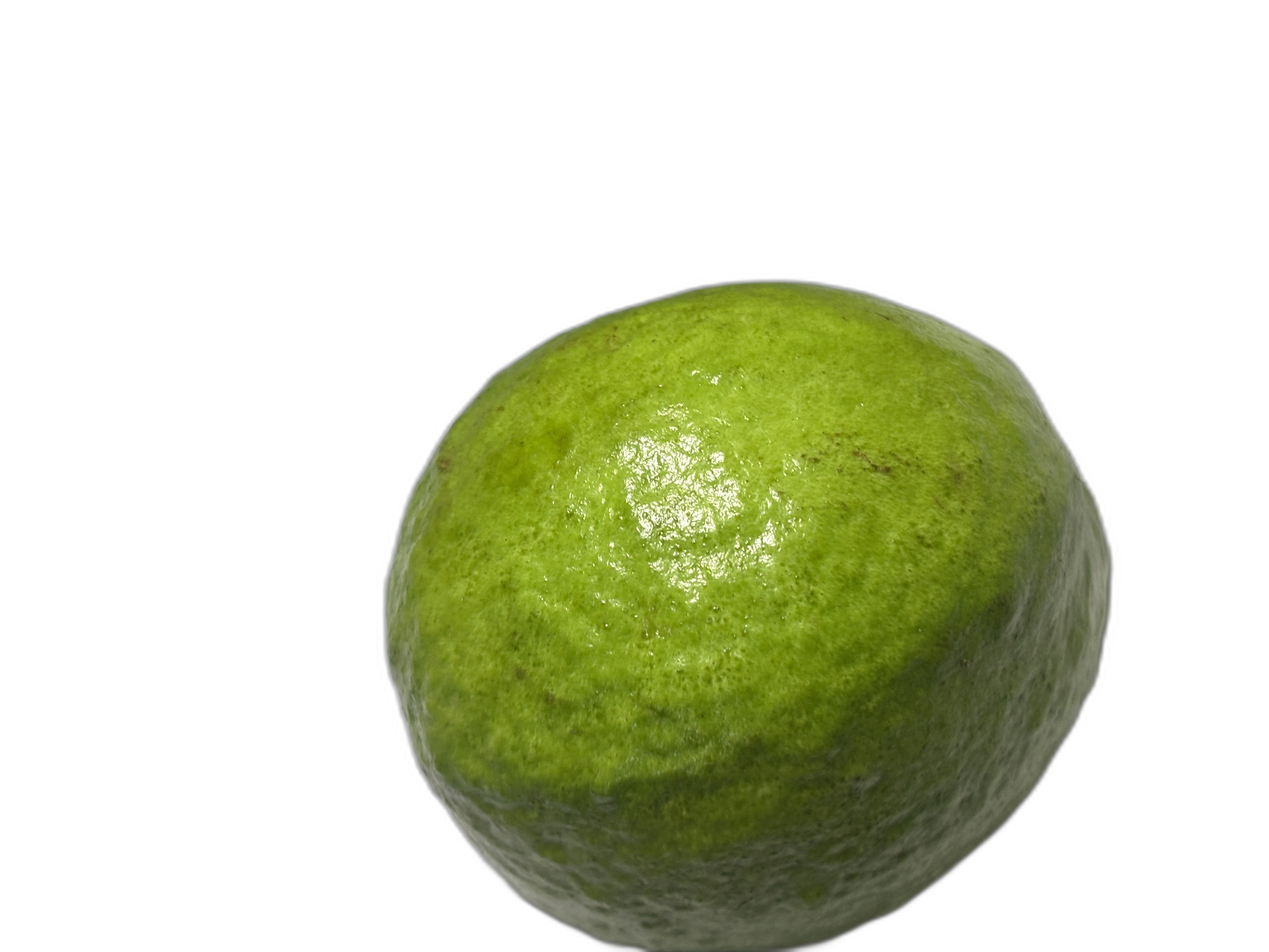guava: (255, 194, 1091, 833)
